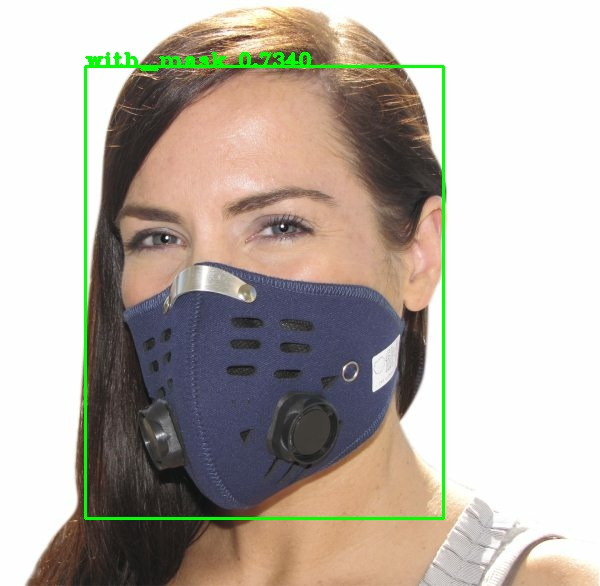with_mask: (98, 88, 442, 494)
